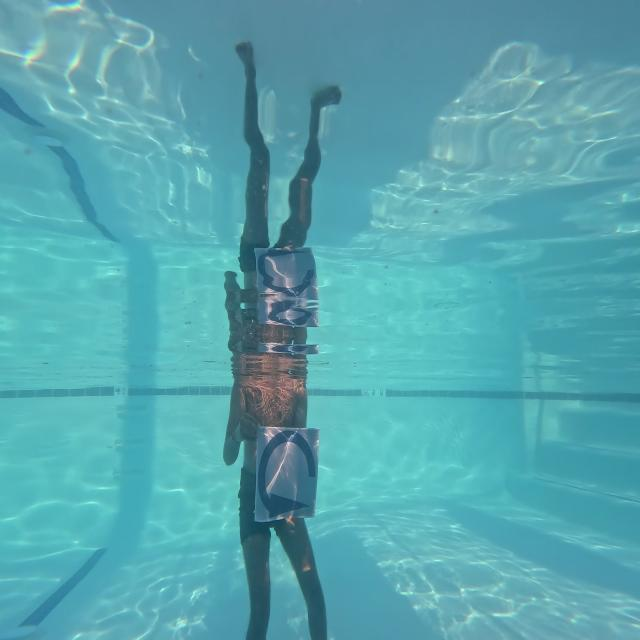blue_side: (255, 424, 318, 528)
